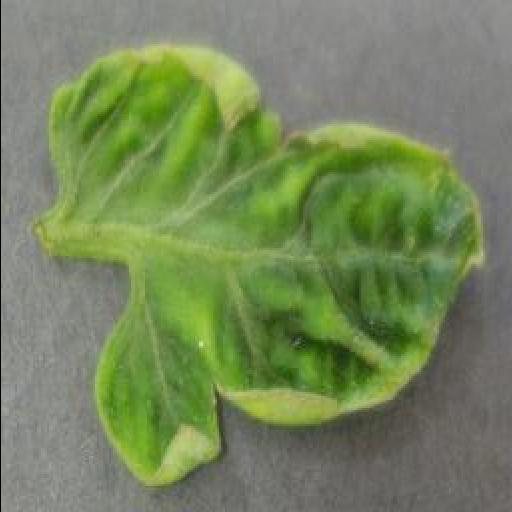disease_tomato: (48, 42, 486, 490)
